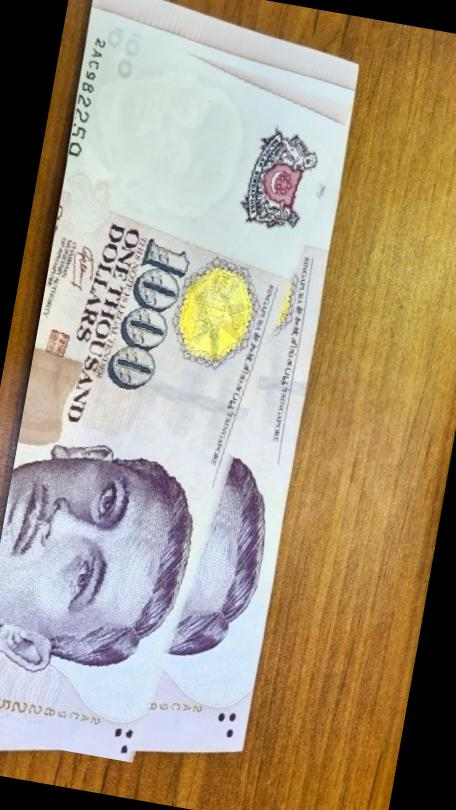1000SingaporeDollar: (0, 22, 358, 780)
